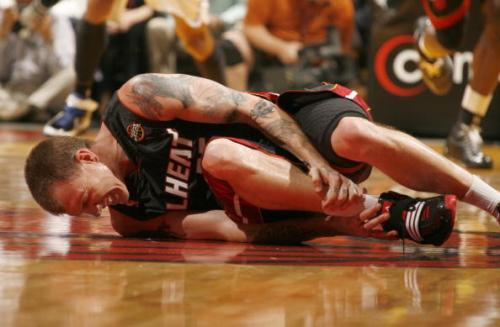fall: (16, 58, 490, 242)
